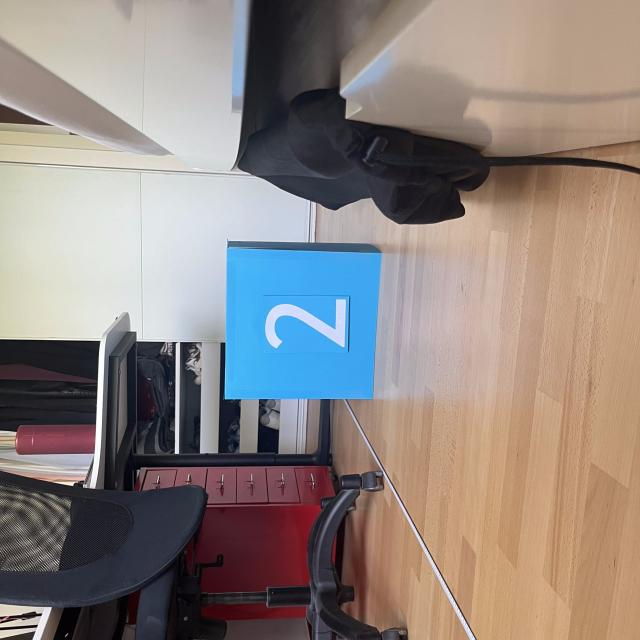box: (220, 236, 385, 402)
